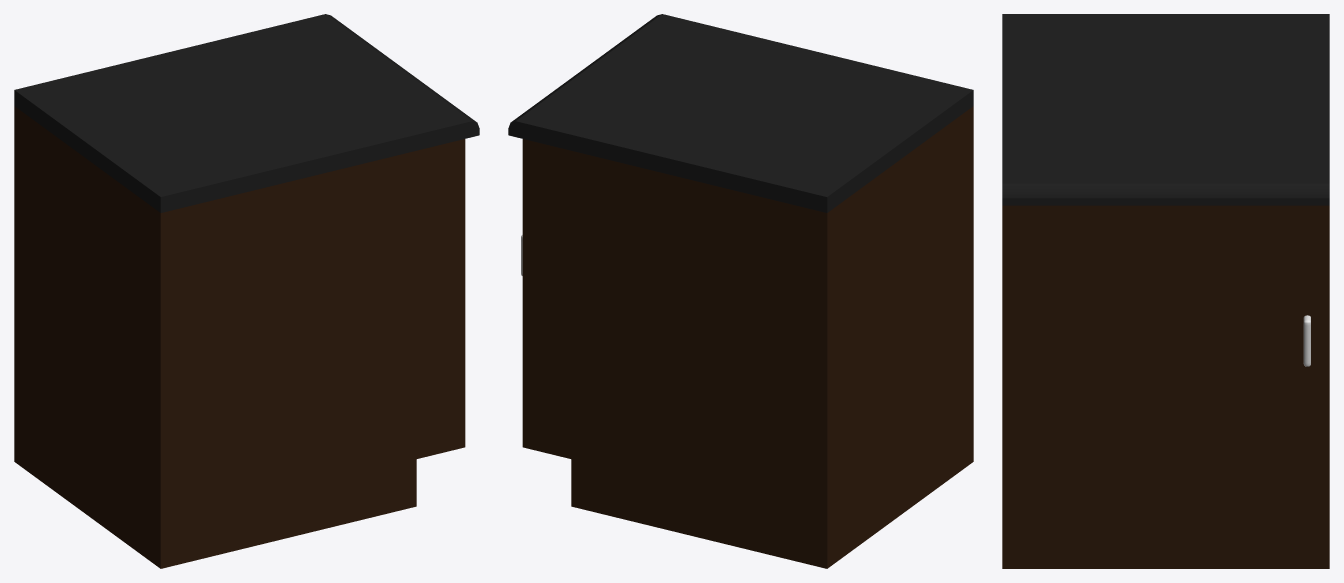
File: Cabinet.fbx
3 views of the same model, side by side, from view 1: azimuth 30°, elevation 25°; view 2: azimuth 150°, elevation 25°; view 3: azimuth 270°, elevation 25° (orthographic). The views are drawn at different scales.
Visible parts, largest first — view 1: Cabinet, Door; view 2: Cabinet, Door; view 3: Door, Cabinet.
Part boxes in pixels (left/top/right/bottom): Cabinet: left=14, top=14, right=479, bottom=568; Door: left=450, top=139, right=465, bottom=450; Cabinet: left=508, top=14, right=973, bottom=568; Door: left=521, top=139, right=537, bottom=450; Door: left=1002, top=205, right=1329, bottom=542; Cabinet: left=1002, top=14, right=1329, bottom=568.
Size of the model in its own units: 62.83 by 70 by 50.
